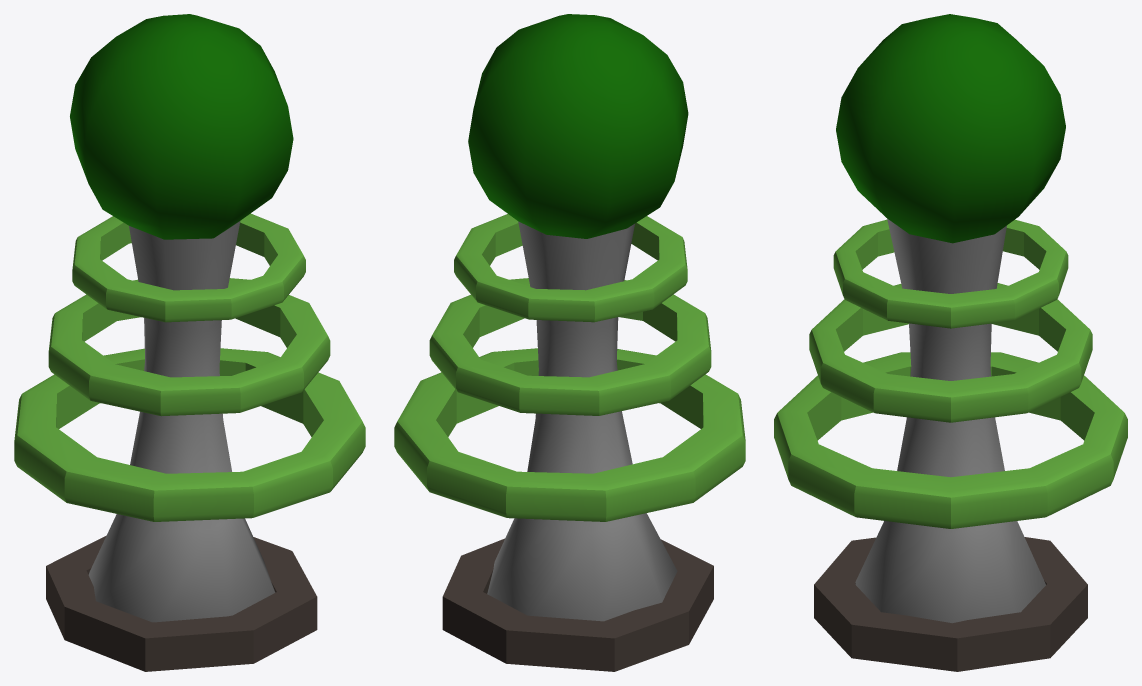
Rendered from Unactivated Checkpoint.fbx.
3 renders of one model, left to right at view 1: azimuth 30°, elevation 25°; view 2: azimuth 150°, elevation 25°; view 3: azimuth 270°, elevation 25°, orthographic.
Parts seen in each view (by area): view 1: head, body, ring_one2, base, ring_one1, ring_one; view 2: head, body, ring_one2, base, ring_one1, ring_one; view 3: head, body, ring_one2, base, ring_one1, ring_one.
Part boxes in pixels (bbox=[...]): head: bbox=[70, 14, 293, 239]; body: bbox=[88, 221, 275, 622]; ring_one2: bbox=[14, 348, 365, 521]; base: bbox=[46, 536, 317, 671]; ring_one1: bbox=[48, 278, 330, 416]; ring_one: bbox=[72, 213, 305, 322]; head: bbox=[468, 14, 688, 238]; body: bbox=[487, 221, 677, 621]; ring_one2: bbox=[394, 348, 745, 521]; base: bbox=[442, 538, 713, 671]; ring_one1: bbox=[429, 278, 711, 415]; ring_one: bbox=[454, 214, 687, 322]; head: bbox=[836, 14, 1065, 243]; body: bbox=[855, 218, 1045, 623]; ring_one2: bbox=[774, 352, 1127, 528]; base: bbox=[814, 537, 1087, 671]; ring_one1: bbox=[809, 283, 1092, 422]; ring_one: bbox=[833, 219, 1068, 328].
Bounding box in the file's own units: 5.03 × 9.38 × 5.08.
